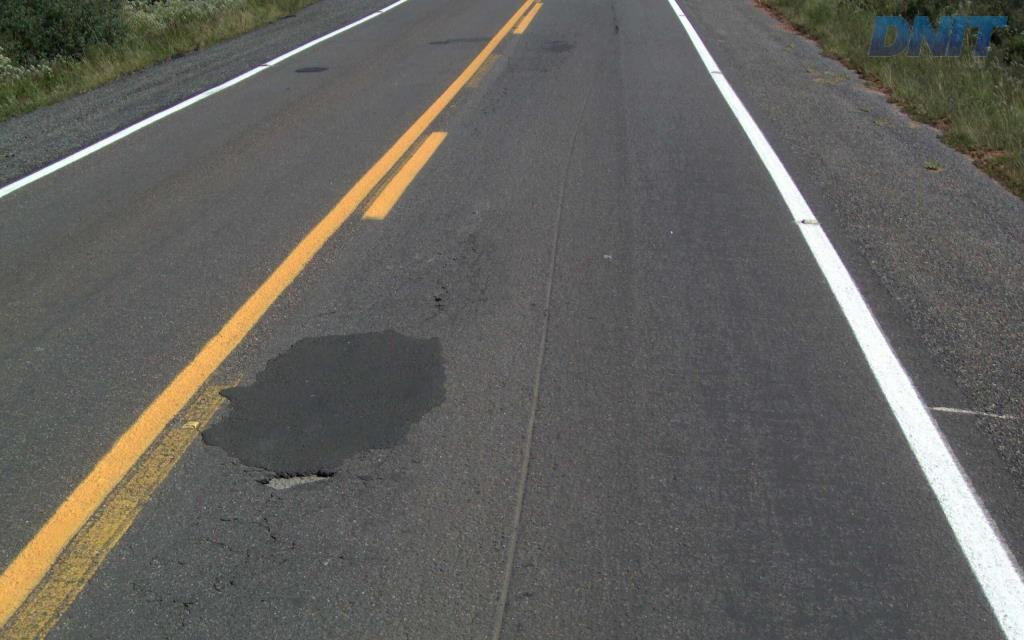pothole: (258, 463, 335, 488)
